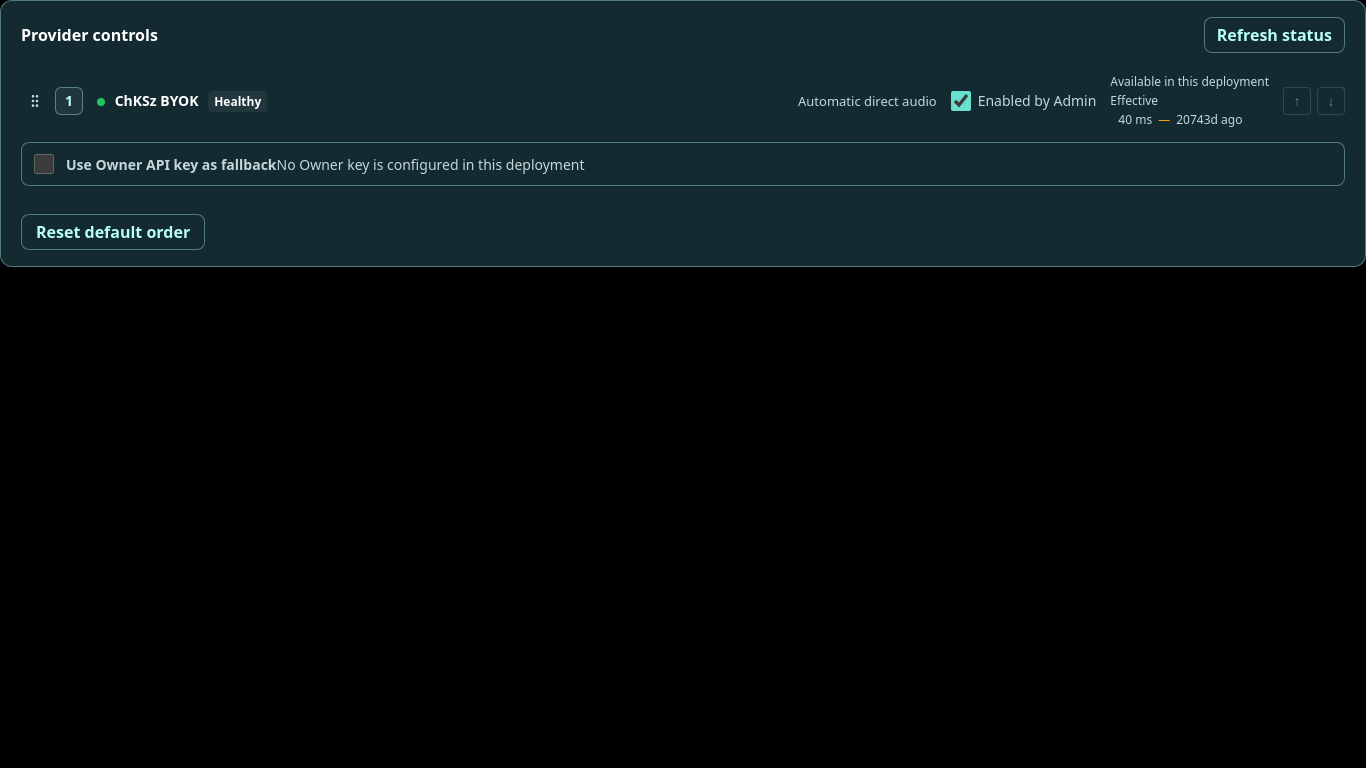
Test: ProviderControls › opens a bounded confirmation for disabling the last effective provider
Click the checkbox labelled "Enabled by Admin".
click(961, 100)  # box [951,90,971,110]
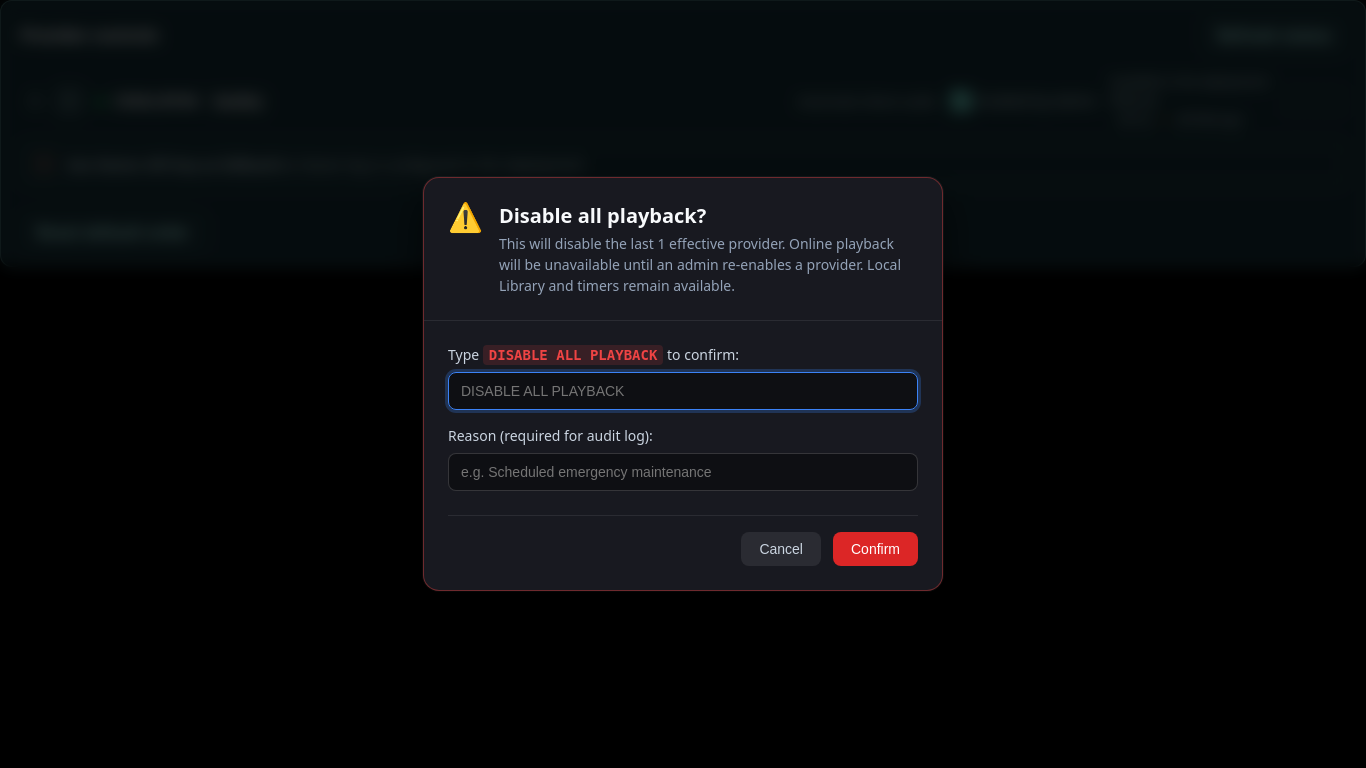
Expected: the dialog is shown, [423,177,943,591]
Expected: the dialog shows "1", [499,234,901,295]
Expected: the dialog shows "Online playback will be unavailable", [499,234,901,295]
